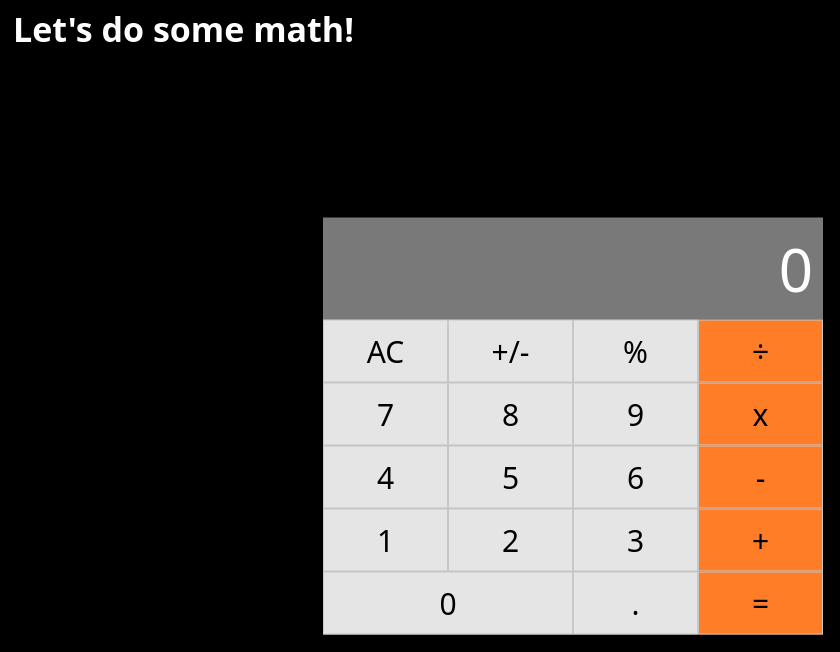
Test: Calculator tests › simulate the user interaction with the calculator: 7.4
Step 1. Click the button "7" → (386, 414), box [323,382,448,446]
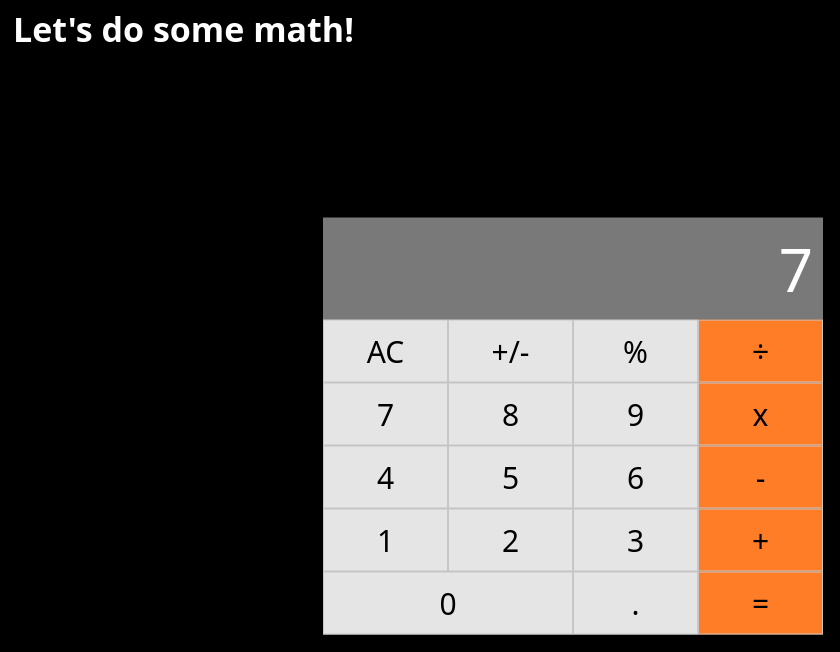
Step 2. Click the button "." → (636, 603), box [573,572,698,634]
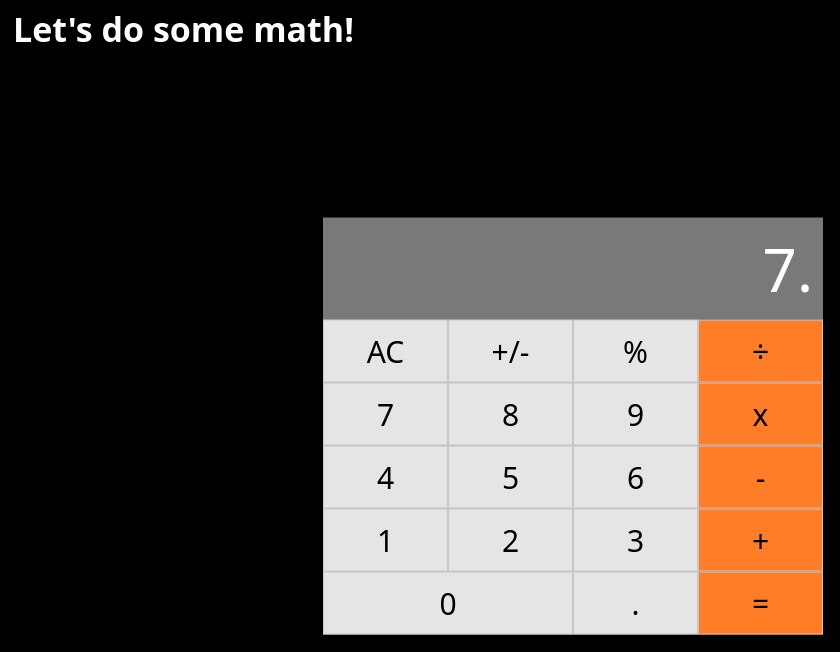
Step 3. Click the button "4" → (386, 477), box [323,446,448,508]
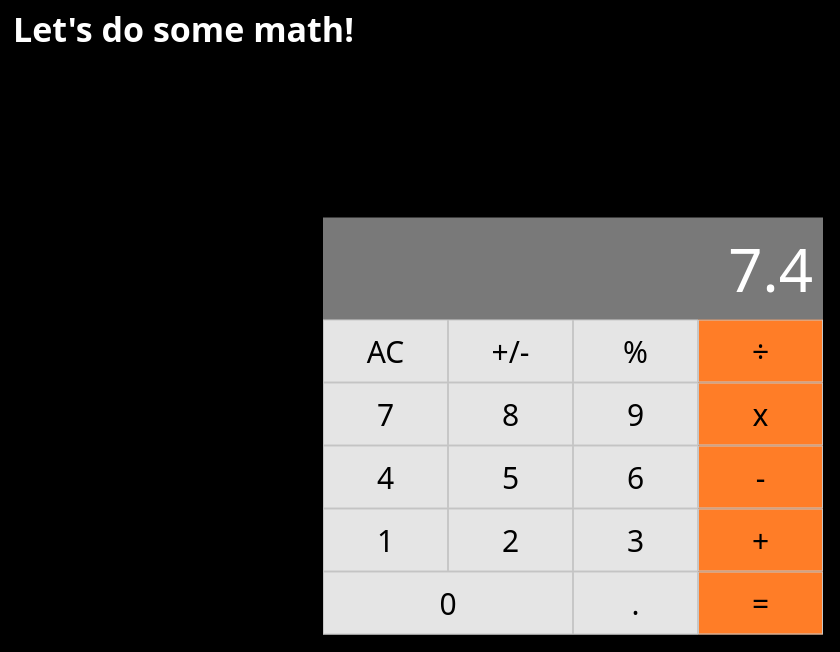
Result: the text "7.4" is shown at [323,218,823,320]
